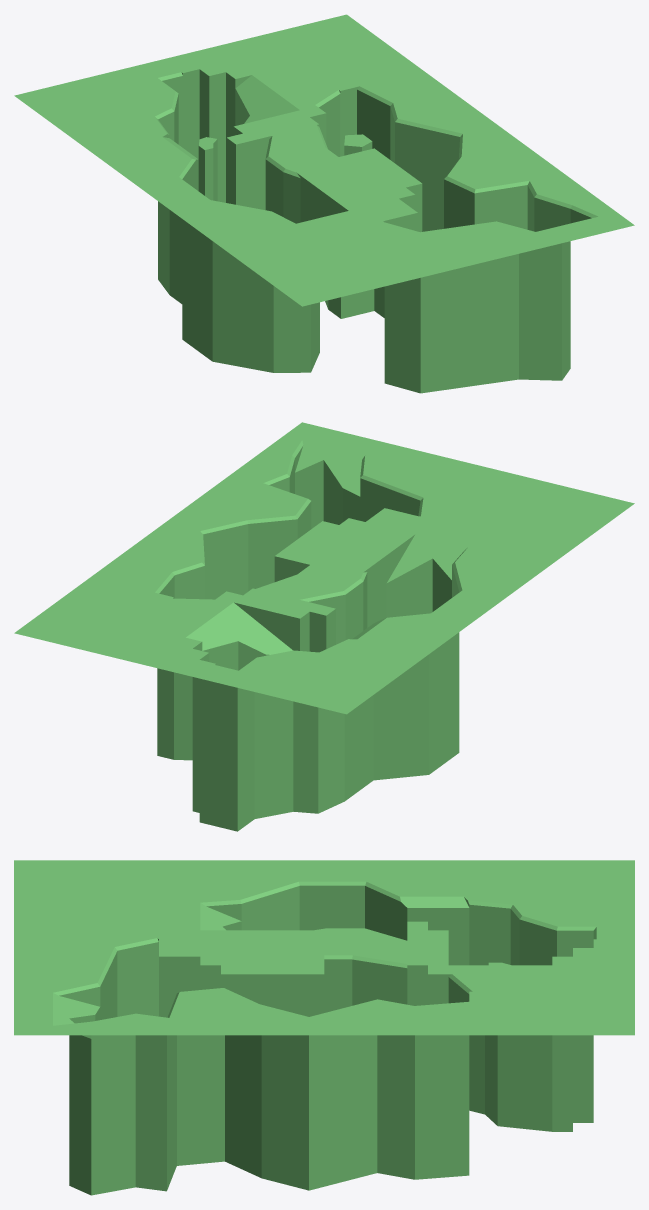
The model's file is x_oo_ground_40_Y9_2_mirror.fbx.
The picture shows the model from 3 angles, top to bottom: view 1: azimuth 30°, elevation 25°; view 2: azimuth 150°, elevation 25°; view 3: azimuth 270°, elevation 25°; orthographic projection. The views are drawn at different scales.
Visible parts, largest first — view 1: x_oo_ground_40_Y9_2_mirror1; view 2: x_oo_ground_40_Y9_2_mirror1; view 3: x_oo_ground_40_Y9_2_mirror1.
Part boxes in pixels (<box>): x_oo_ground_40_Y9_2_mirror1: <box>14,14,634,393</box>; x_oo_ground_40_Y9_2_mirror1: <box>14,422,634,831</box>; x_oo_ground_40_Y9_2_mirror1: <box>14,860,634,1195</box>.
Size of the model in its own units: 20 by 9.34 by 30.
